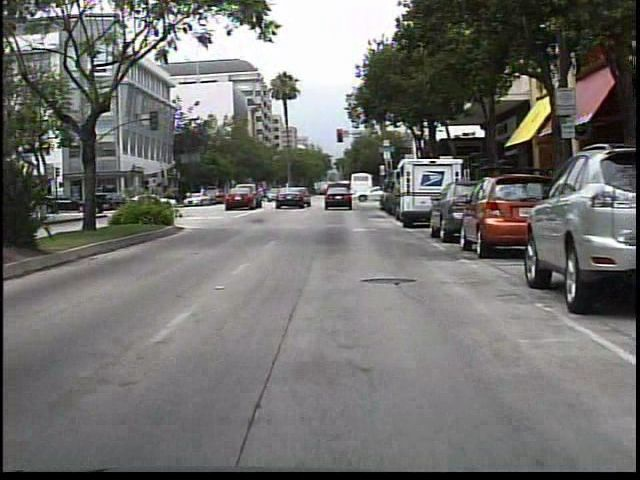person: (272, 182, 286, 206)
